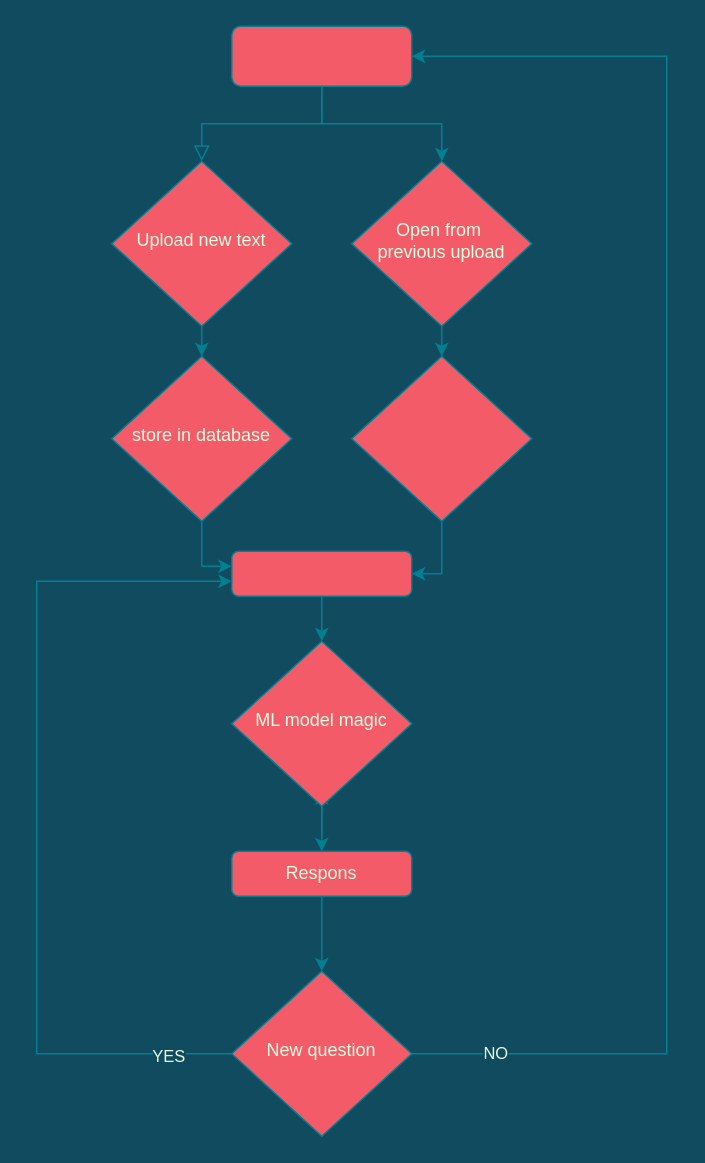
This 705x1163 diagram has some shape labels left out. Each missing label, with the centre of its shape:
Ask question....: point (321, 573)
Chose file: point (321, 55)
fetch from database: point (441, 438)
